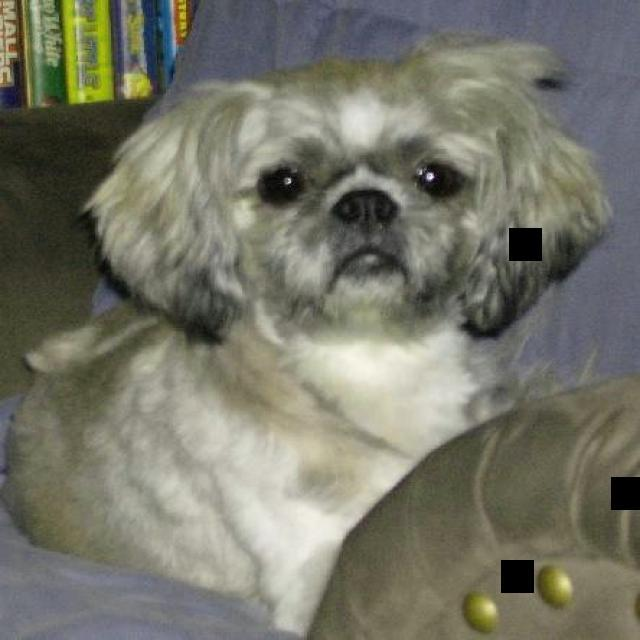adult_dog: (1, 30, 616, 637)
